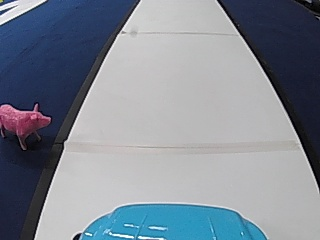pig: (0, 98, 53, 150)
